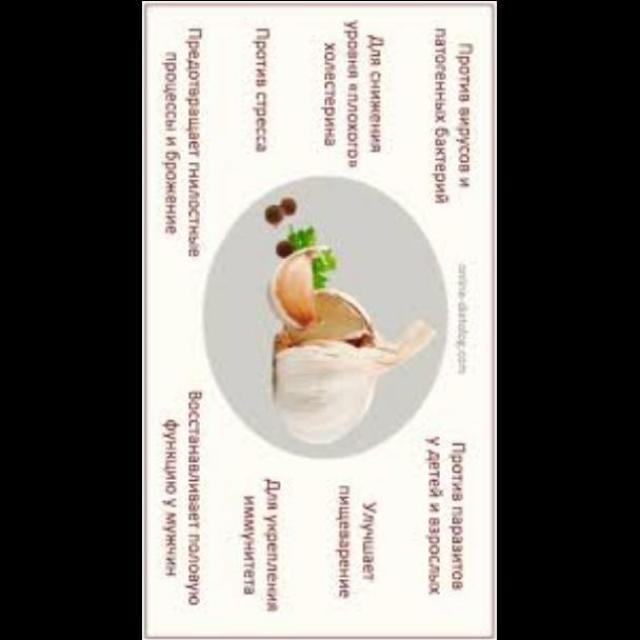garlic: (262, 280, 436, 440), (268, 234, 334, 332)
